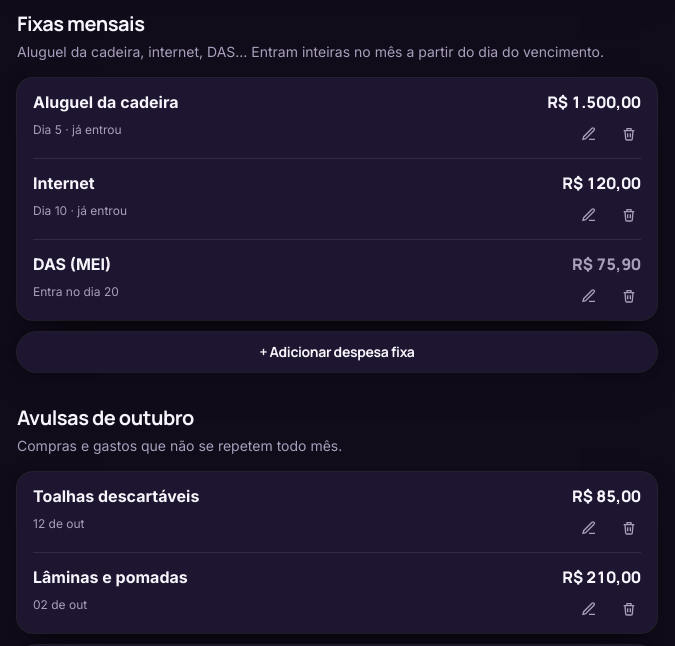
Scenario: ExpensesView › adds a fixed expense already due and the total goes up
(page scrolled)
Expected: the text "Aluguel da cadeira" is shown, [33,92,178,112]
Click the button "+ Adicionar despesa fixa" at x=337, y=352, box [17,332,657,372]
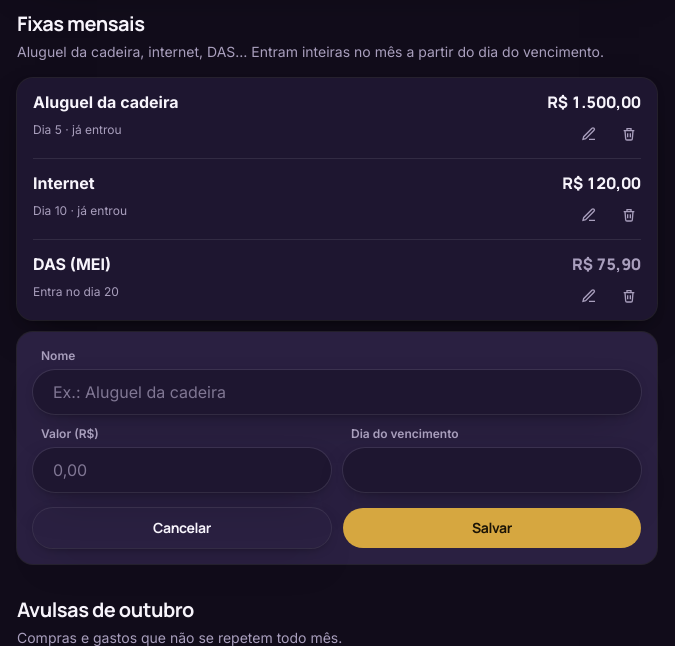
Type "Software de agenda" into the field labelled "Nome" at x=337, y=392, box [33,370,641,414]
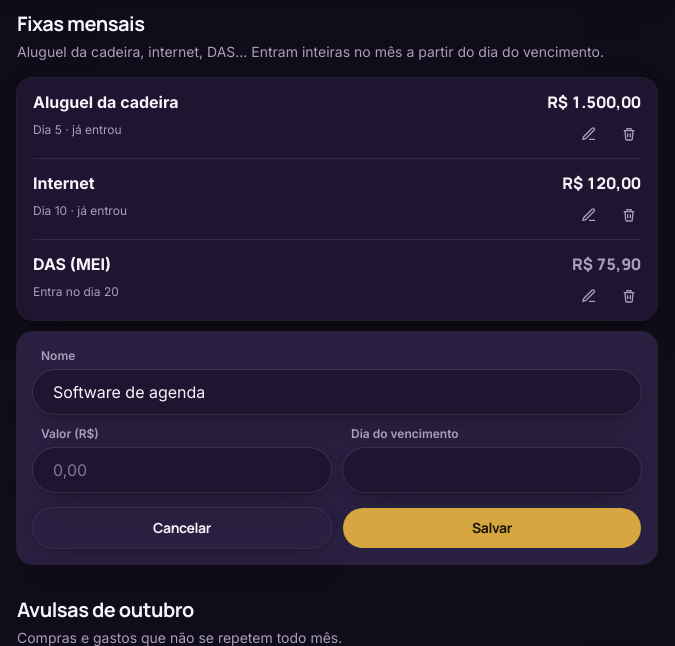
Type "49,90" into the field labelled "Valor (R$)" at x=182, y=470, box [33,448,331,492]
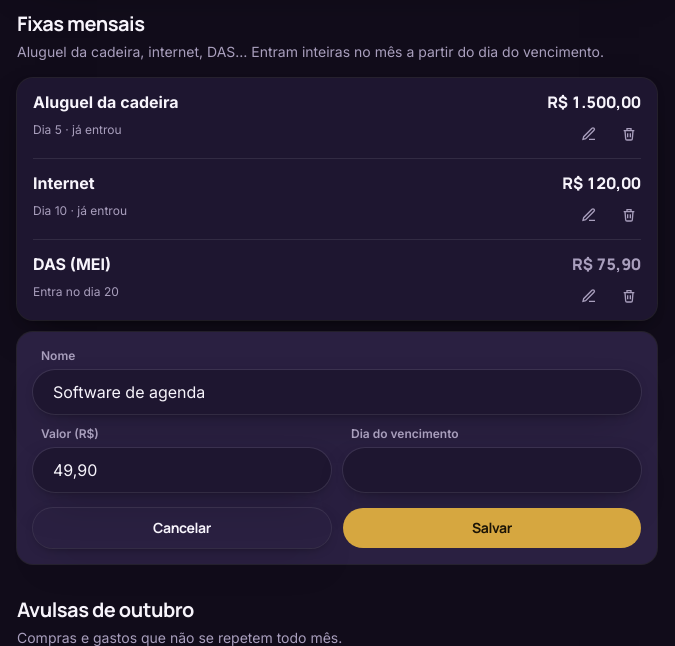
Type "15" into the number field labelled "Dia do vencimento" at x=492, y=470, box [343,448,641,492]
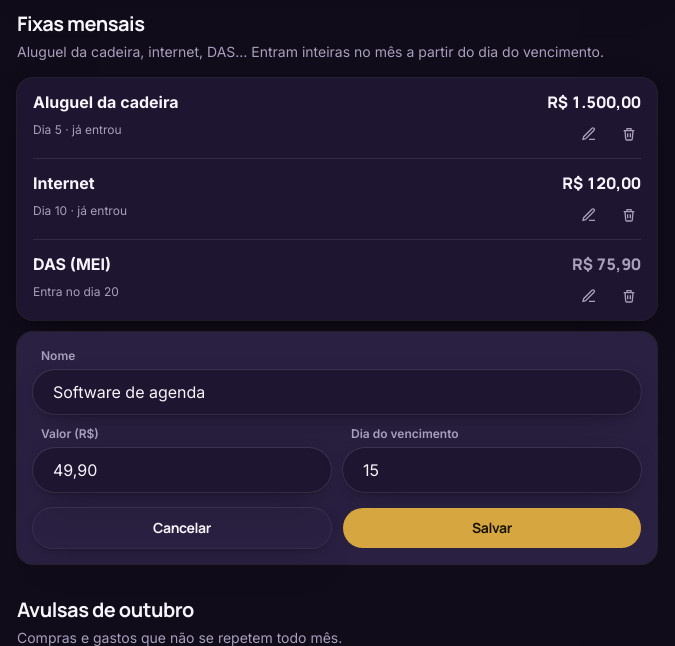
Click the button "Salvar" at x=492, y=528, box [343,508,641,548]
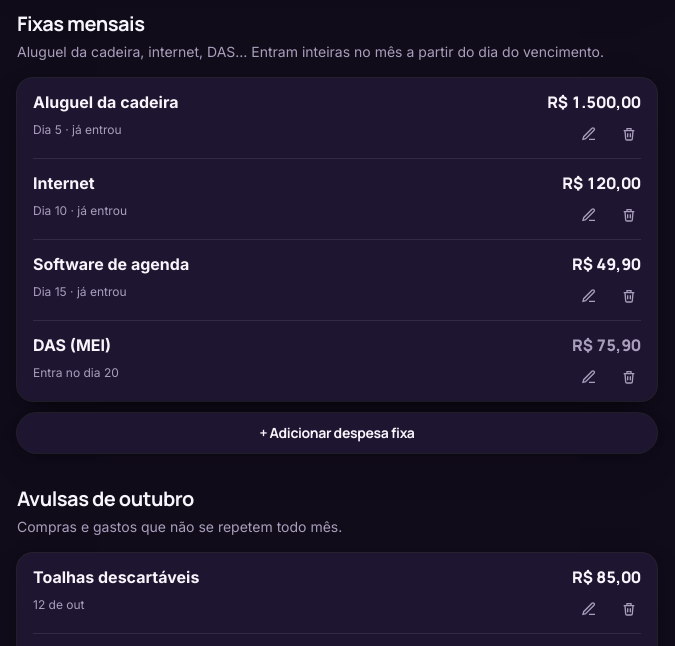
Result: the text "Software de agenda" is shown at [33,254,189,274]
Result: the text "Dia 15 · já entrou" is shown at [33,284,126,299]
